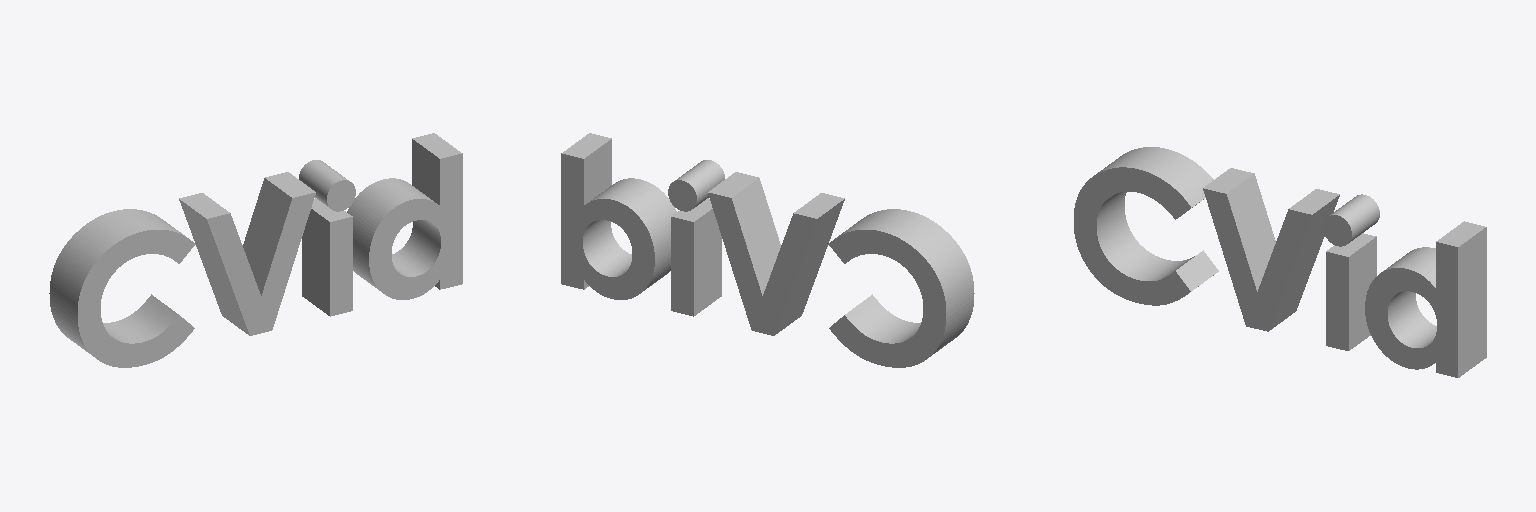
Rendered from CVid.obj.
3 renders of one model, left to right at view 1: azimuth 30°, elevation 25°; view 2: azimuth 150°, elevation 25°; view 3: azimuth 330°, elevation 25°, orthographic.
Parts seen in each view (by area): view 1: Text; view 2: Text; view 3: Text.
Boxes of the visible parts, x1=… form: Text: x1=49, y1=133, x2=462, y2=367; Text: x1=561, y1=133, x2=974, y2=367; Text: x1=1074, y1=147, x2=1486, y2=377.
Bounding box in the file's own units: 1.59 × 0.5378 × 0.2.